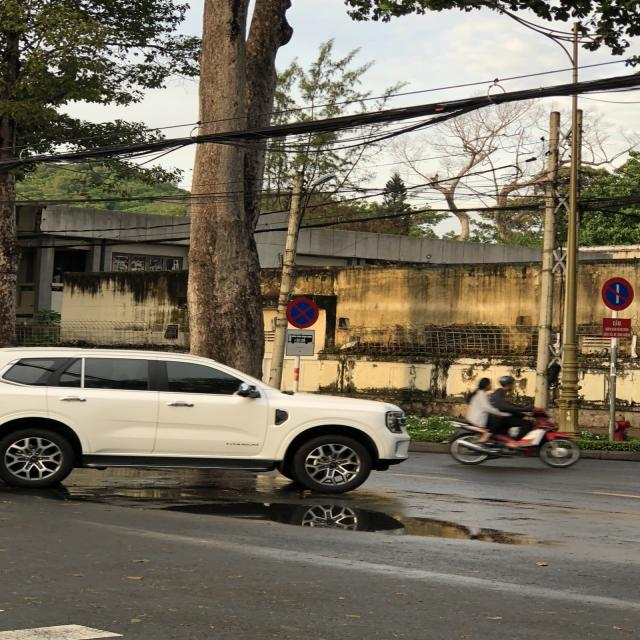Bien bao cam dung xe va do xe: (283, 296, 321, 330)
